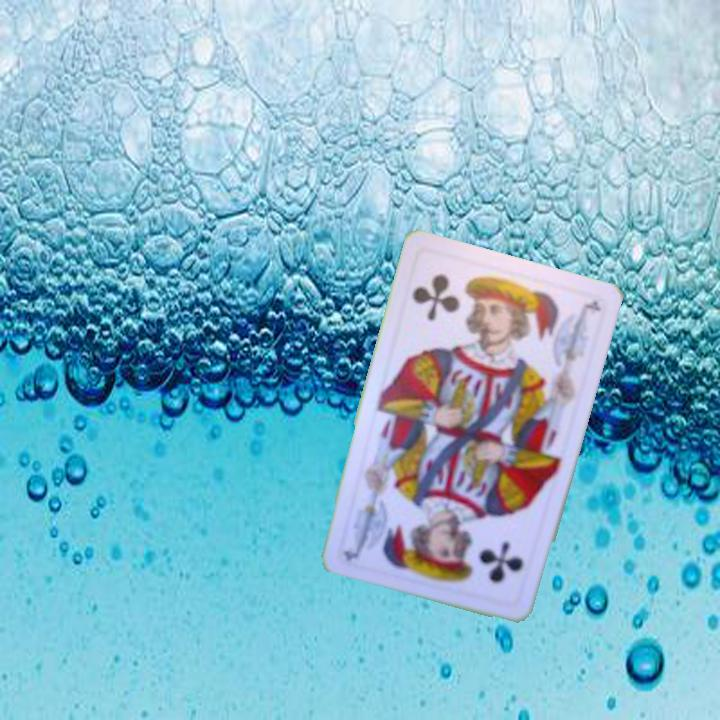c_j.png: (423, 500, 541, 608), (396, 247, 514, 355)
